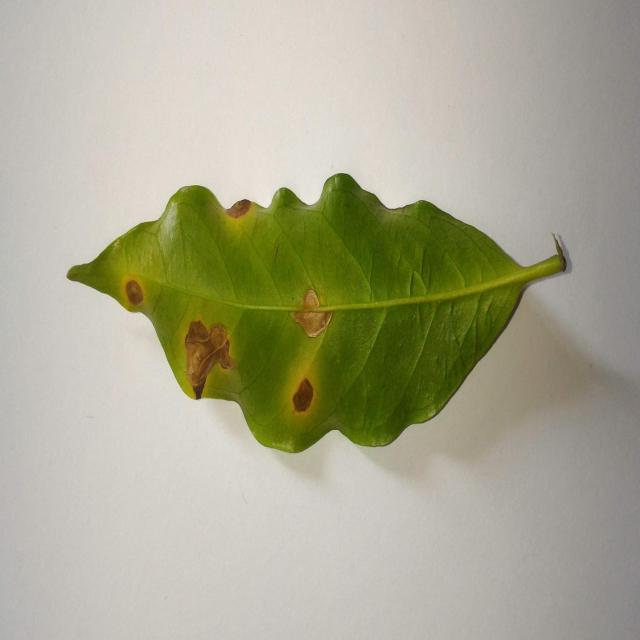Enfermedad-Mancha-de-hierro: (64, 172, 572, 457)
